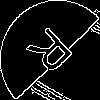R: (25, 25, 82, 83)
